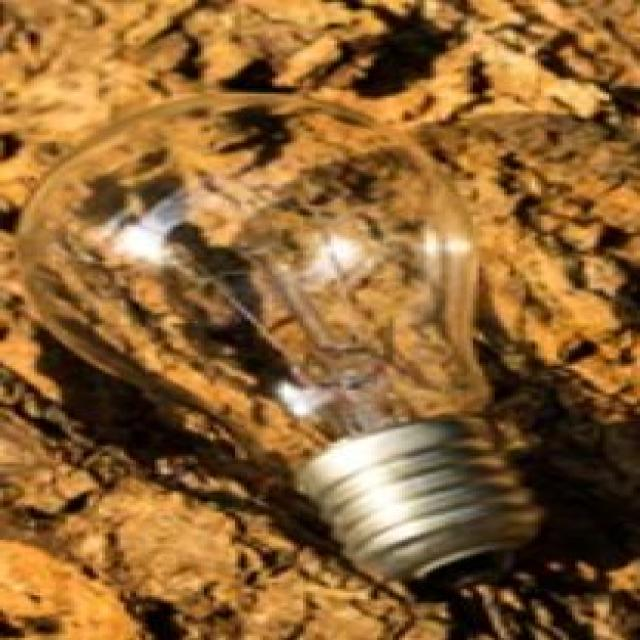electronic: (10, 88, 548, 591), (288, 413, 544, 591)
